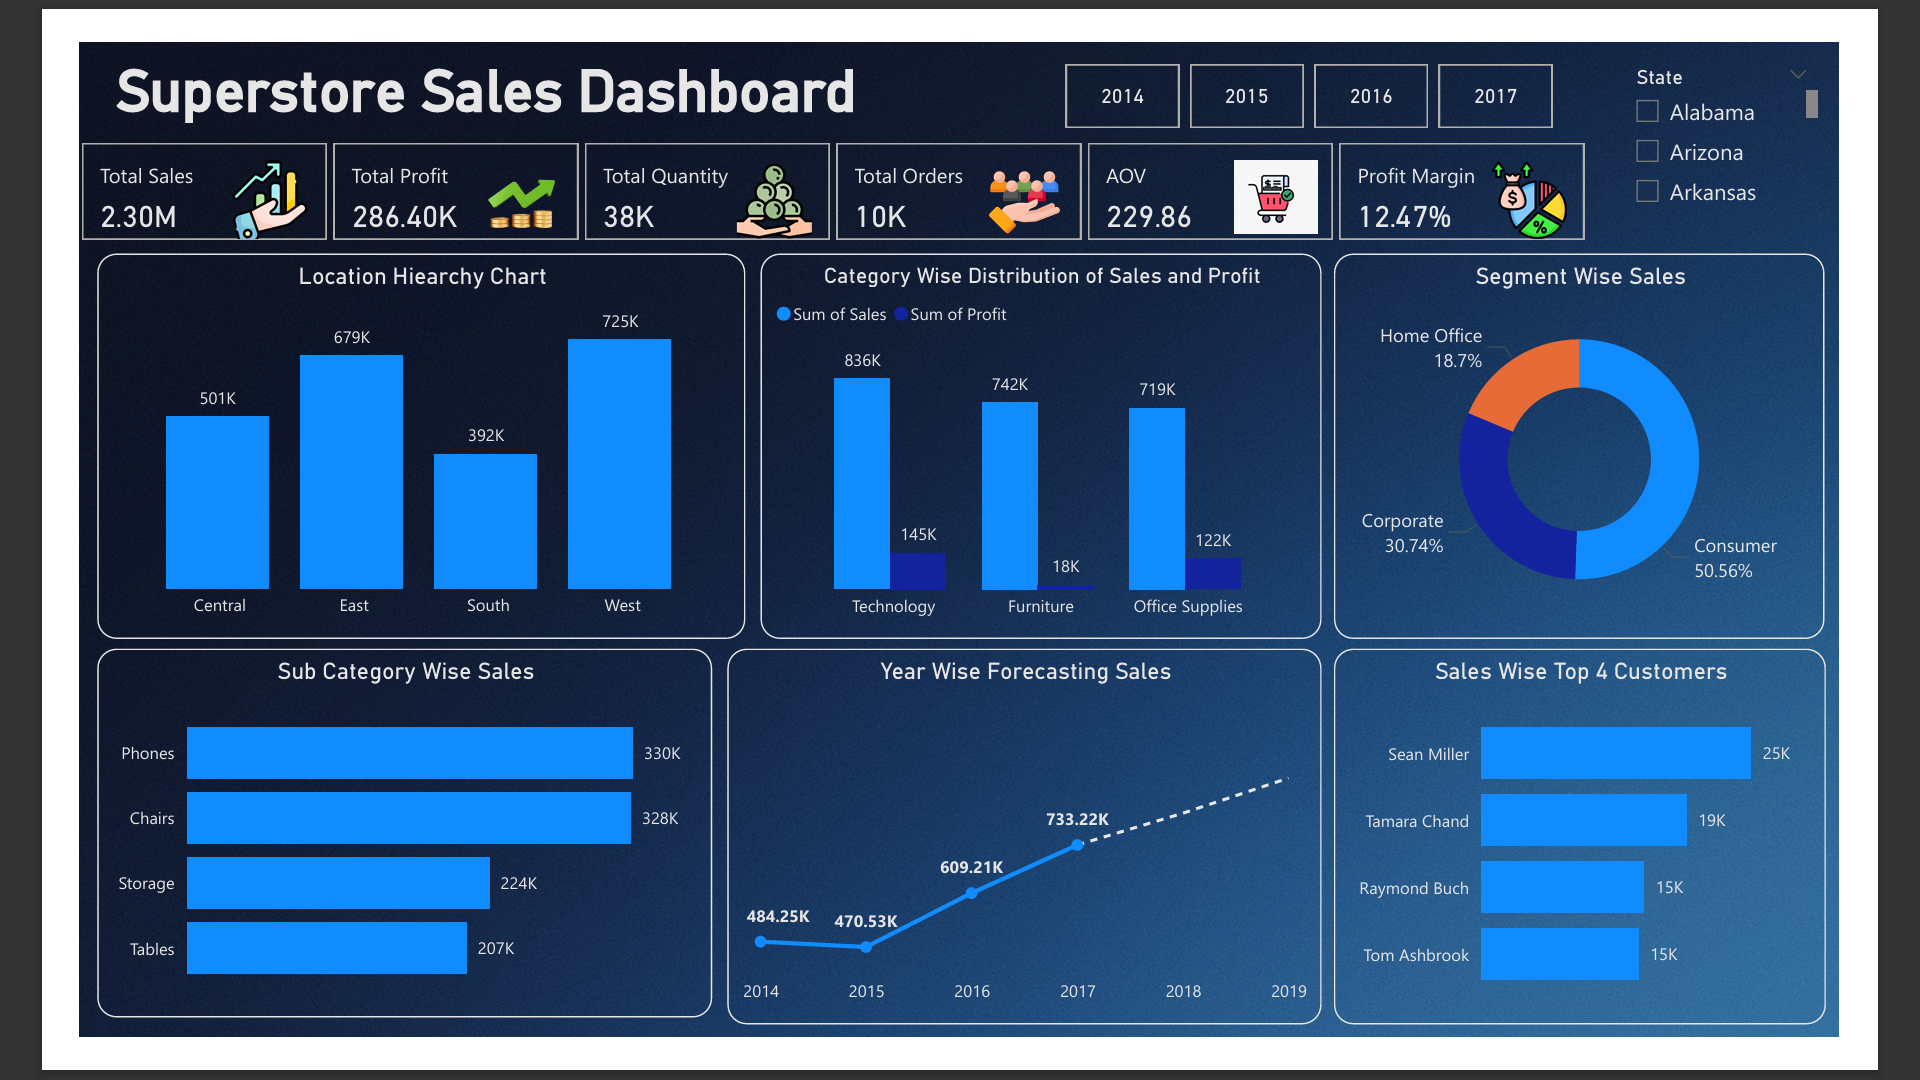

Layout of this report page (visuals, bound fields, positions):
{"tool":"powerbi","page":{"name":"Page 1","canvas":[1280,720],"ordinal":0},"visuals":[{"type":"textbox","title":"Superstore Sales Dashboard","box":[15.7,10.9,563.4,56.7],"z":0},{"type":"cardVisual","fields":{"Data":["Orders.Sales","Orders.Profit","Orders.Quantity","Orders.Order ID","Orders.AOV","Orders.Profit Margin"]},"box":[0,67.6,1100.3,80],"z":1000},{"type":"columnChart","title":"Location Hiearchy Chart","fields":{"Y":["Orders.Sales"],"Category":["Orders.Country Hierarchy.Country","Orders.Country Hierarchy.Region","Orders.Country Hierarchy.State","Orders.Country Hierarchy.City"]},"box":[15.7,153.2,469.3,278.7],"z":2000},{"type":"lineChart","title":"Year Wise Forecasting Sales","fields":{"Category":["Orders.Order Date.Variation.Date Hierarchy.Year"],"Y":["Orders.Sales"]},"box":[471.7,439.1,430.7,271.4],"z":3000},{"type":"clusteredColumnChart","title":"Category Wise Distribution of Sales and Profit","fields":{"Category":["Orders.Category"],"Y":["Orders.Sales","Orders.Profit"]},"box":[495.8,153.2,406.6,278.7],"z":4000},{"type":"donutChart","title":"Segment Wise Sales","fields":{"Y":["Orders.Sales"],"Category":["Orders.Segment"]},"box":[910.9,153.2,354.7,278.7],"z":5000},{"type":"barChart","title":"Sub Category Wise Sales","fields":{"Y":["Orders.Sales"],"Category":["Orders.Sub-Category"]},"box":[15.7,439.1,445.2,266.6],"z":6000},{"type":"barChart","title":"Sales Wise Top 4 Customers","fields":{"Category":["Orders.Customer Name"],"Y":["Orders.Sales"]},"box":[910.9,439.1,355.9,271.4],"z":7000},{"type":"advancedSlicerVisual","fields":{"Values":["Orders.Order Date.Variation.Date Hierarchy.Year"]},"box":[711.8,10.9,363.1,56.7],"z":8000},{"type":"slicer","fields":{"Values":["Orders.State"]},"box":[1117.2,12.1,148.4,109.8],"z":9000}]}

Visuals, with their boxes in screenshot pixels (x1, y1, x2, y2), scaled from the page's 1280x720 canvas onto the 1920x1080 screenshot:
"Superstore Sales Dashboard" textbox: 24 16 869 101
cardVisual - Orders.Sales x Orders.Profit: 0 101 1650 221
"Location Hiearchy Chart" columnChart: 24 230 728 648
"Year Wise Forecasting Sales" lineChart: 708 659 1354 1066
"Category Wise Distribution of Sales and Profit" clusteredColumnChart: 744 230 1354 648
"Segment Wise Sales" donutChart: 1366 230 1898 648
"Sub Category Wise Sales" barChart: 24 659 691 1059
"Sales Wise Top 4 Customers" barChart: 1366 659 1900 1066
advancedSlicerVisual - Orders.Order Date.Variation.Date Hierarchy.Year: 1068 16 1612 101
slicer - Orders.State: 1676 18 1898 183
